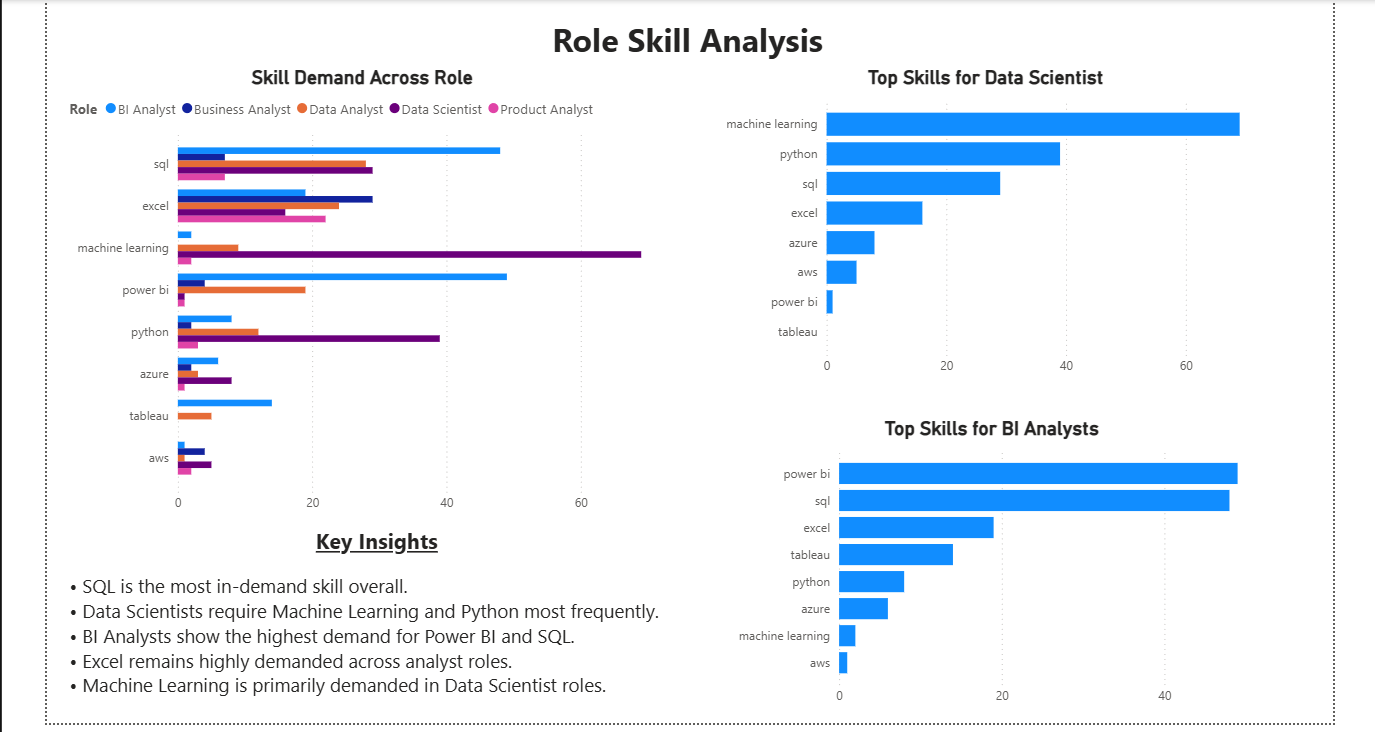

This screenshot's page, from the dashboard's own definition file:
{"tool":"powerbi","page":{"name":"Role Skill Analysis","canvas":[1280,720],"ordinal":2},"visuals":[{"type":"clusteredBarChart","title":"Skill Demand Across Role","fields":{"Category":["role_skill_summary.Skill"],"Y":["Sum(role_skill_summary.Demand)"],"Series":["role_skill_summary.Role"]},"box":[17.8,65.9,592.8,452.8],"z":0},{"type":"clusteredBarChart","title":"Top Skills for Data Scientist","fields":{"Category":["role_skill_summary.Skill"],"Y":["Sum(role_skill_summary.Demand)"]},"box":[662.8,65.9,542,317],"z":1000},{"type":"clusteredBarChart","title":"Top Skills for BI Analysts","fields":{"Category":["role_skill_summary.Skill"],"Y":["Sum(role_skill_summary.Demand)"]},"box":[675.1,415.8,529.7,295],"z":2000},{"type":"textbox","box":[17.8,518.7,621.6,192.1],"z":3000},{"type":"textbox","box":[32.9,12.3,1210.3,53.5],"z":3001}]}

Visuals, with their boxes on the page's 1280x720 design canvas (x1, y1, x2, y2). These are canvas units, not pixel positions in the 1375x732 screenshot, which may show the page scaled, cropped or inside an application window:
"Skill Demand Across Role" clusteredBarChart: [18,66,611,519]
"Top Skills for Data Scientist" clusteredBarChart: [663,66,1205,383]
"Top Skills for BI Analysts" clusteredBarChart: [675,416,1205,711]
textbox: [18,519,639,711]
textbox: [33,12,1243,66]
